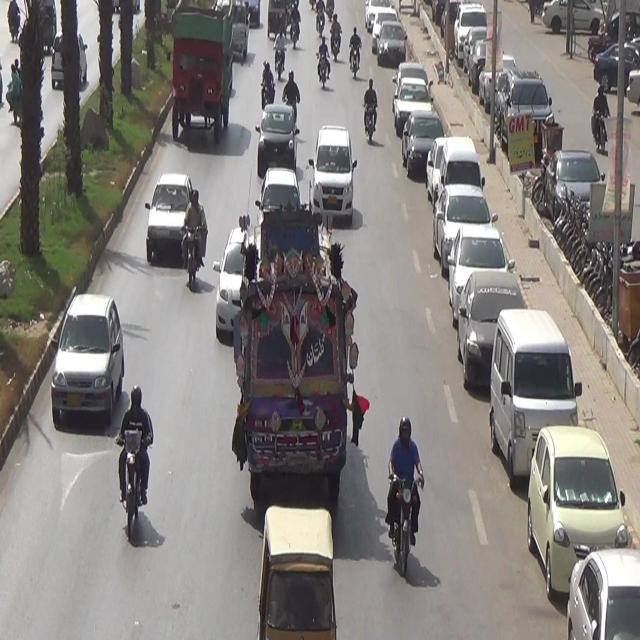car: (55, 281, 122, 416), (205, 229, 260, 333), (310, 130, 358, 234), (140, 165, 191, 262), (250, 101, 306, 177)
motorbike: (114, 376, 159, 548), (383, 412, 429, 578), (357, 74, 379, 160), (314, 18, 332, 102), (270, 30, 291, 84), (277, 62, 299, 111), (346, 26, 361, 78), (332, 17, 345, 73), (261, 61, 275, 111)
truck: (159, 0, 236, 149)
